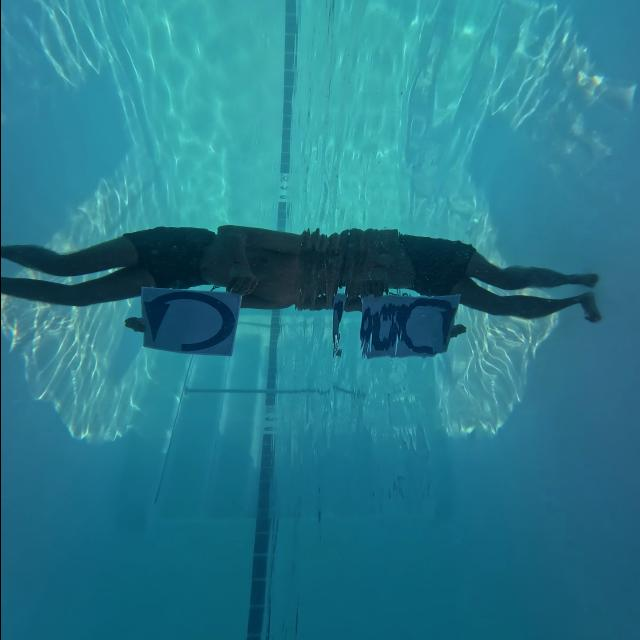blue_side: (137, 290, 240, 355)
